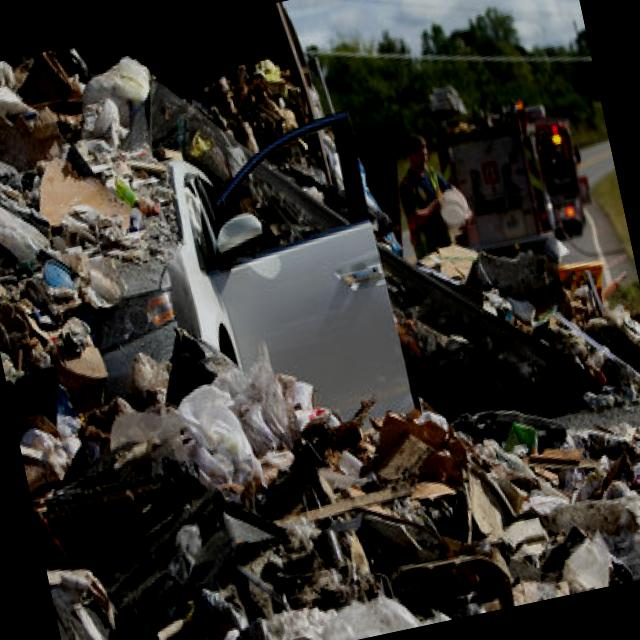garbage: (0, 0, 482, 640), (405, 212, 640, 602)
